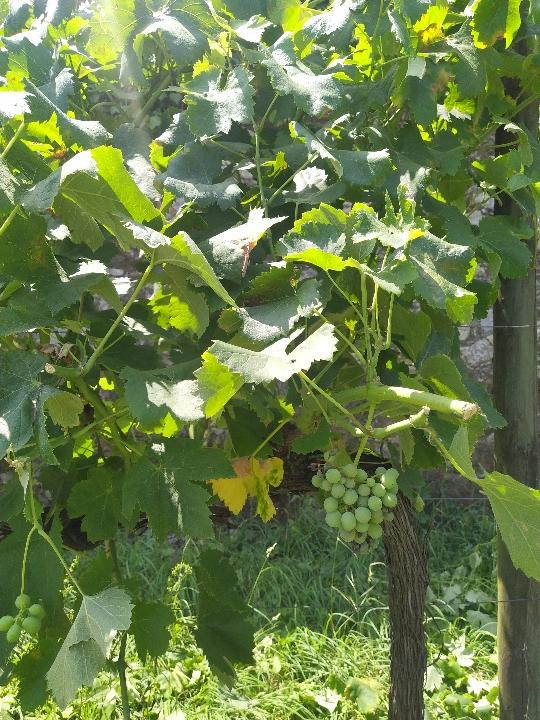grape: (309, 462, 401, 557)
